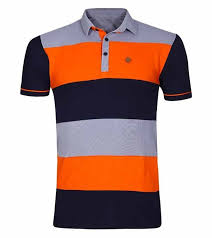C_polo shirt: (24, 6, 195, 233)
